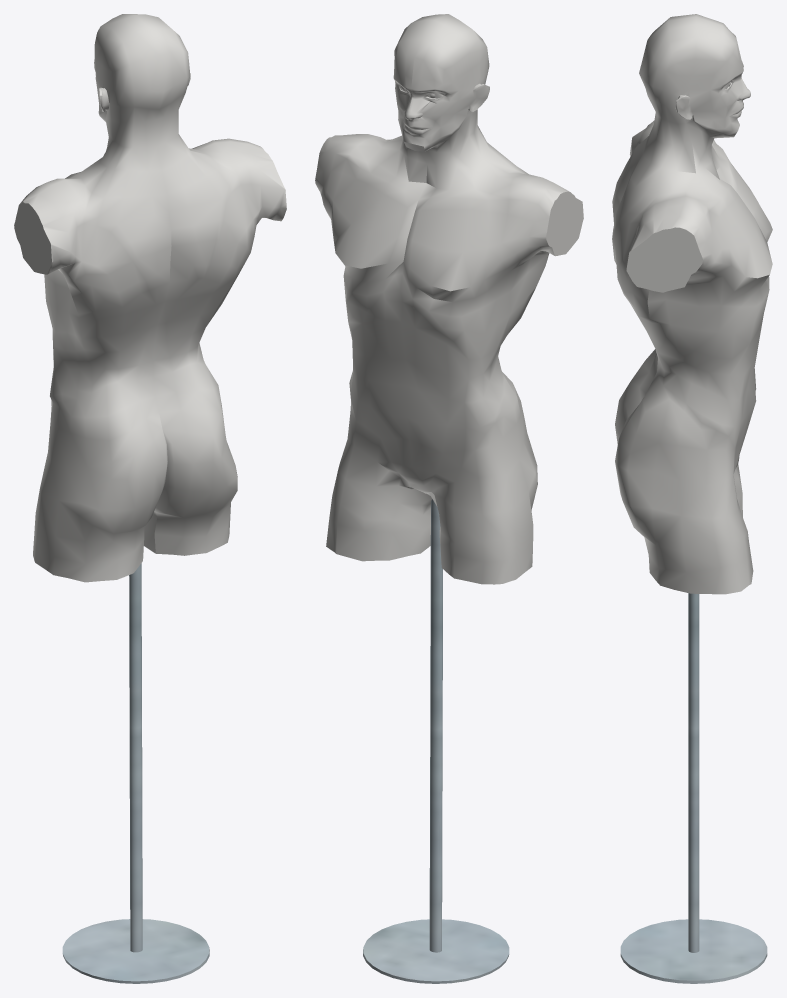
The model's file is store_mannequin.glb.
3 renders of one model, left to right at view 1: azimuth 30°, elevation 25°; view 2: azimuth 150°, elevation 25°; view 3: azimuth 270°, elevation 25°, orthographic.
Visible parts, largest first — view 1: MOB-002; view 2: MOB-002; view 3: MOB-002.
Part boxes in pixels (bbox=[...]): MOB-002: bbox=[14, 14, 286, 983]; MOB-002: bbox=[315, 14, 583, 983]; MOB-002: bbox=[612, 14, 772, 983].
Size of the model in its own units: 0.4115 by 1.58 by 0.2461.
Materials: 2 (1 with a texture image).
